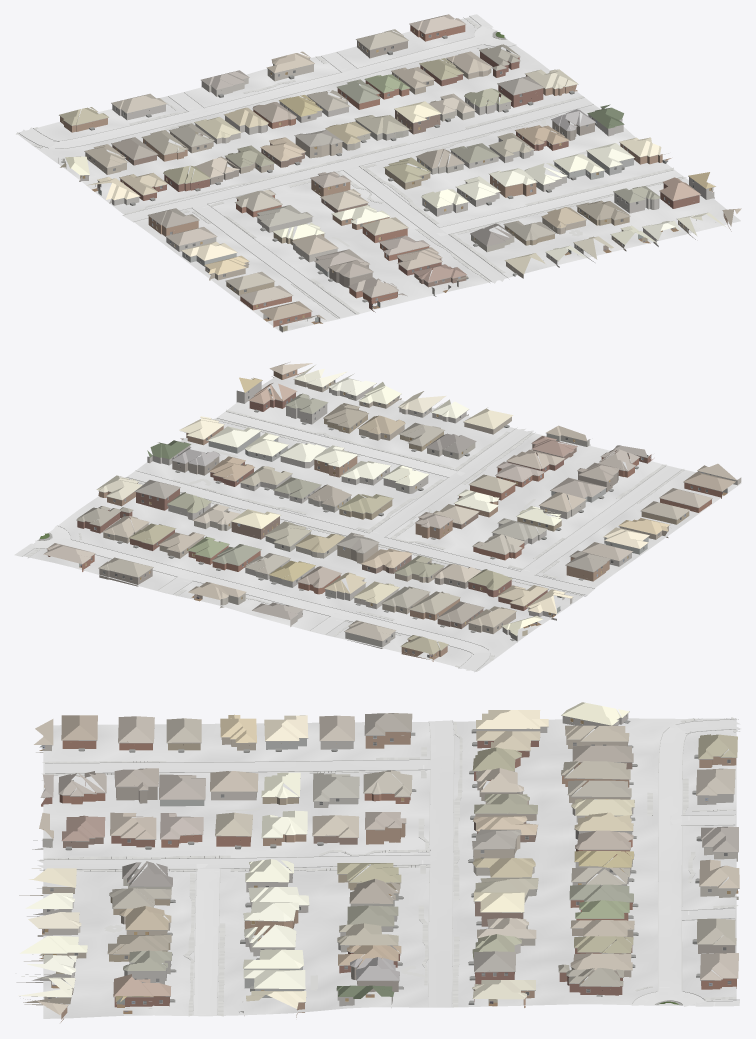
The picture shows the model from 3 angles, top to bottom: view 1: azimuth 30°, elevation 25°; view 2: azimuth 150°, elevation 25°; view 3: azimuth 270°, elevation 25°; orthographic projection. The views are drawn at different scales.
Visible parts, largest first — view 1: roof, ground, concrete, wall, detail, wall_stucco, wall_stone, walk, curb, glass, room; view 2: roof, ground, concrete, wall, detail, wall_stucco, wall_stone, walk, curb, glass; view 3: ground, roof, concrete, wall, walk, detail, wall_stucco, curb, wall_stone, glass.
Part boxes in pixels (x1=…): roof: x1=59, y1=14, x2=741, y2=324; ground: x1=16, y1=17, x2=740, y2=332; concrete: x1=20, y1=14, x2=681, y2=317; wall: x1=60, y1=25, x2=731, y2=327; detail: x1=59, y1=24, x2=729, y2=323; wall_stucco: x1=85, y1=58, x2=633, y2=332; wall_stone: x1=58, y1=96, x2=714, y2=267; walk: x1=16, y1=17, x2=686, y2=319; curb: x1=19, y1=16, x2=683, y2=317; glass: x1=89, y1=33, x2=726, y2=323; room: x1=60, y1=29, x2=713, y2=331; roof: x1=43, y1=362, x2=737, y2=654; ground: x1=23, y1=375, x2=741, y2=671; concrete: x1=14, y1=412, x2=681, y2=670; wall: x1=47, y1=369, x2=721, y2=661; detail: x1=37, y1=368, x2=737, y2=657; wall_stucco: x1=103, y1=403, x2=741, y2=633; wall_stone: x1=147, y1=381, x2=631, y2=648; walk: x1=26, y1=409, x2=684, y2=671; curb: x1=22, y1=411, x2=684, y2=671; glass: x1=91, y1=371, x2=711, y2=657; ground: x1=43, y1=718, x2=736, y2=1018; roof: x1=18, y1=702, x2=739, y2=1014; concrete: x1=37, y1=719, x2=740, y2=1015; wall: x1=23, y1=732, x2=736, y2=1022; walk: x1=41, y1=717, x2=738, y2=1016; detail: x1=19, y1=711, x2=739, y2=1013; wall_stucco: x1=19, y1=736, x2=738, y2=997; curb: x1=39, y1=718, x2=739, y2=1014; wall_stone: x1=16, y1=713, x2=733, y2=1007; glass: x1=47, y1=736, x2=731, y2=1003.
Size of the model in its own units: 258 by 15.09 by 263.
